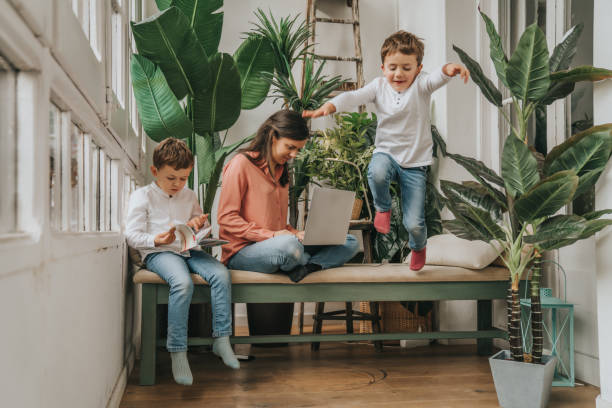without mask: (266, 128, 309, 164), (151, 159, 194, 195), (381, 52, 424, 88)
